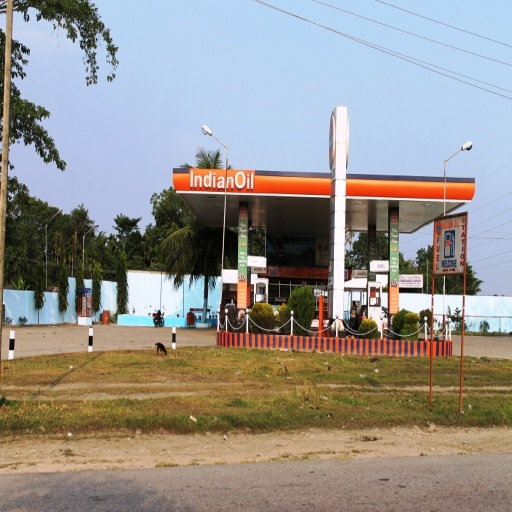roof: (171, 168, 475, 223)
